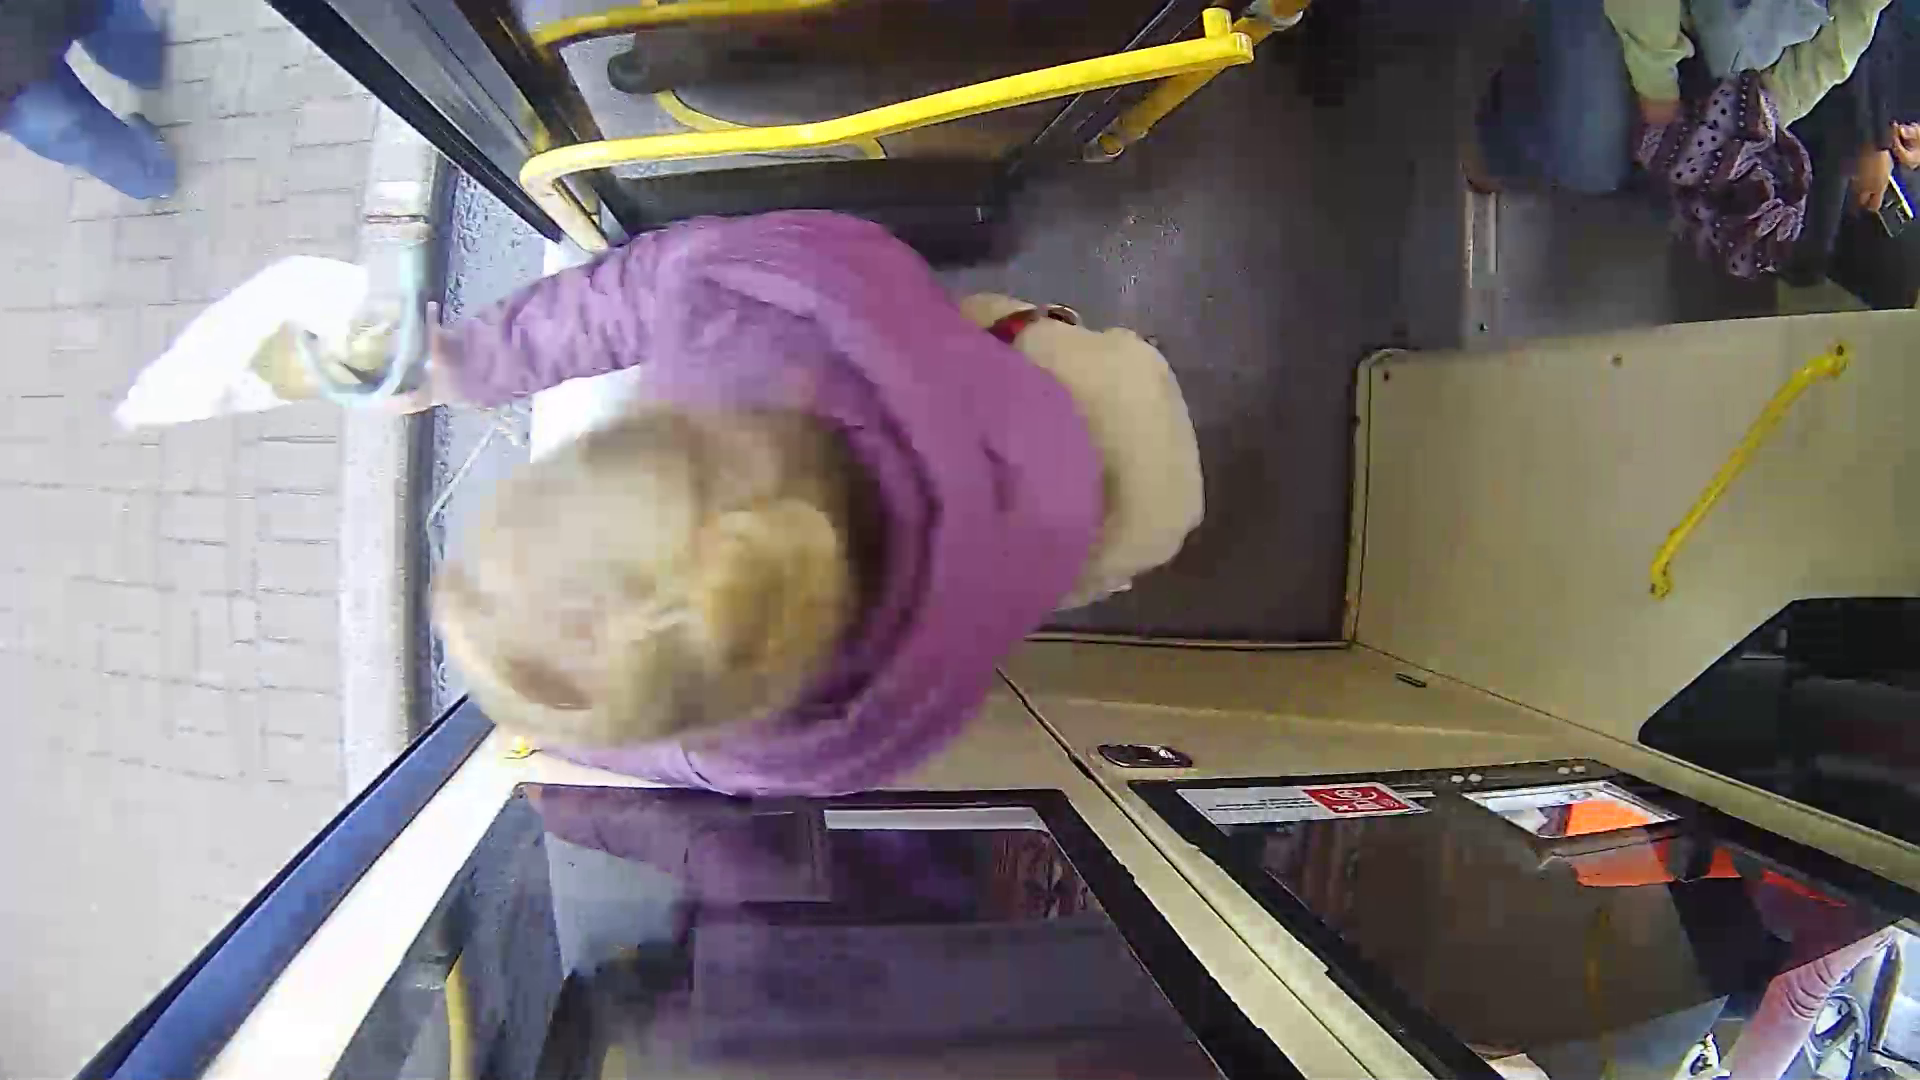person: (296, 217, 1257, 767)
